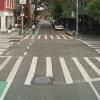Crosswalk: (8, 51, 99, 91)
